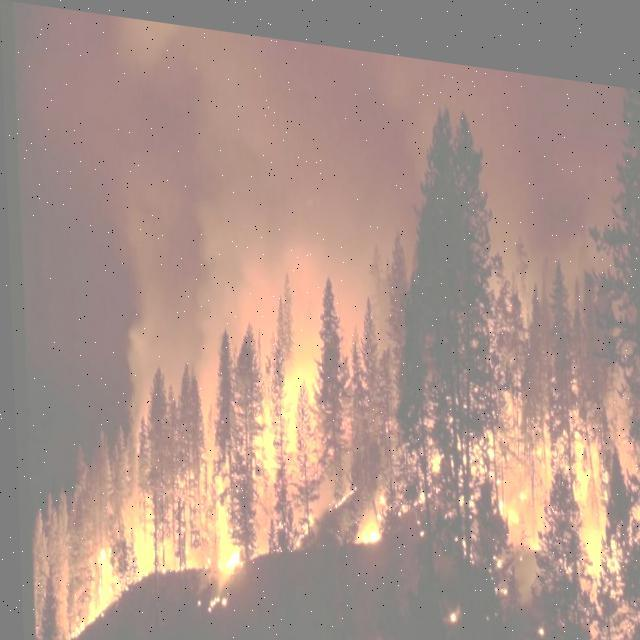Fire: (472, 354, 639, 639), (47, 422, 237, 639), (229, 307, 382, 544)
